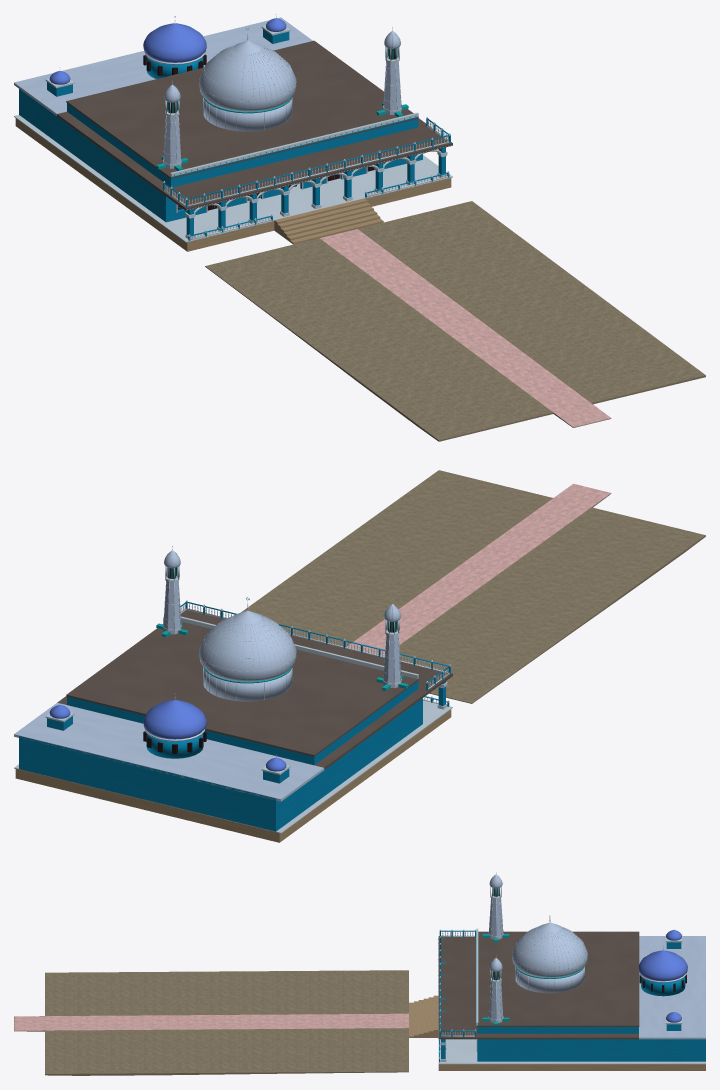
The model's file is bung-binh-thien.glb.
3 renders of one model, top to bottom at view 1: azimuth 30°, elevation 25°; view 2: azimuth 150°, elevation 25°; view 3: azimuth 270°, elevation 25°, orthographic. The views are drawn at different scales.
Visible parts, largest first — view 1: Al Khairiyah main mosque near; view 2: Al Khairiyah main mosque near; view 3: Al Khairiyah main mosque near.
Boxes of the visible parts, <box> form: Al Khairiyah main mosque near: <box>14,14,705,441</box>; Al Khairiyah main mosque near: <box>14,470,705,842</box>; Al Khairiyah main mosque near: <box>14,872,705,1075</box>.
Size of the model in its own units: 26.69 by 13.87 by 77.01.
Materials: 1 (1 with a texture image).
